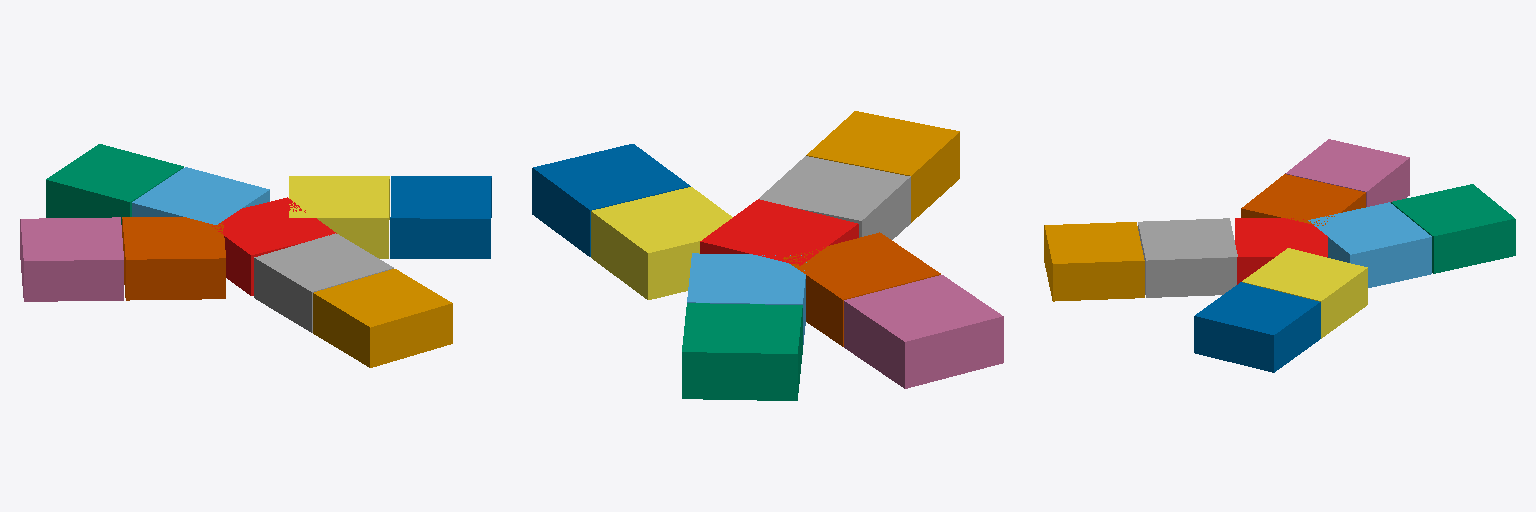
The robot description file, URDF, robot "Model_Models/Model_97.urdf2":
<?xml version='1.0' encoding='UTF-8'?>
<robot name="Model_Models/Model_97.urdf2">
  <link name="base_link">
    <inertial>
      <origin xyz="0.0 0.0 0.0" rpy="0.0 -0.0 0.0"/>
      <mass value="1.0"/>
      <inertia ixx="1.0" ixy="0.0" ixz="0.0" iyy="1.0" iyz="0.0" izz="1.0"/>
    </inertial>
    <visual>
      <geometry>
        <box size="0.67 0.67 0.3 "/>
      </geometry>
      <material name="red"/>
      <origin xyz="0.0 0.0 0.0" rpy="0.0 -0.0 0.0"/>
    </visual>
    <collision>
      <geometry>
        <box size="0.67 0.67 0.3 "/>
      </geometry>
      <origin xyz="0.0 0.0 0.0" rpy="0.0 0.0 0.0"/>
    </collision>
  </link>
  <link name="arm_0_arm1">
    <inertial>
      <origin xyz="0.0 0.34 0.0" rpy="0.0 0.0 0.0"/>
      <mass value="1.0"/>
      <inertia ixx="0.0" ixy="0.0" ixz="0.0" iyy="0.0" iyz="0.0" izz="0.0"/>
    </inertial>
    <visual>
      <geometry>
        <box size="0.67 0.67 0.3 "/>
      </geometry>
      <origin xyz="0.0 0.34 0.0" rpy="0.0 0.0 0.0"/>
    </visual>
    <collision>
      <geometry>
        <box size="0.67 0.67 0.3 "/>
      </geometry>
      <origin xyz="0.0 0.34 0.0" rpy="0.0 0.0 0.0"/>
    </collision>
  </link>
  <link name="arm_0_arm2">
    <inertial>
      <origin xyz="0.0 0.34 0.0" rpy="0.0 0.0 0.0"/>
      <mass value="1.0"/>
      <inertia ixx="0.0" ixy="0.0" ixz="0.0" iyy="0.0" iyz="0.0" izz="0.0"/>
    </inertial>
    <visual>
      <geometry>
        <box size="0.67 0.67 0.3 "/>
      </geometry>
      <origin xyz="0.0 0.34 0.0" rpy="0.0 0.0 0.0"/>
    </visual>
    <collision>
      <geometry>
        <box size="0.67 0.67 0.3 "/>
      </geometry>
      <origin xyz="0.0 0.34 0.0" rpy="0.0 0.0 0.0"/>
    </collision>
  </link>
  <link name="arm_2_arm1">
    <inertial>
      <origin xyz="0.0 0.34 0.0" rpy="0.0 0.0 0.0"/>
      <mass value="1.0"/>
      <inertia ixx="0.0" ixy="0.0" ixz="0.0" iyy="0.0" iyz="0.0" izz="0.0"/>
    </inertial>
    <visual>
      <geometry>
        <box size="0.67 0.67 0.3 "/>
      </geometry>
      <origin xyz="0.0 0.34 0.0" rpy="0.0 0.0 0.0"/>
    </visual>
    <collision>
      <geometry>
        <box size="0.67 0.67 0.3 "/>
      </geometry>
      <origin xyz="0.0 0.34 0.0" rpy="0.0 0.0 0.0"/>
    </collision>
  </link>
  <link name="arm_2_arm2">
    <inertial>
      <origin xyz="0.0 0.34 0.0" rpy="0.0 0.0 0.0"/>
      <mass value="1.0"/>
      <inertia ixx="0.0" ixy="0.0" ixz="0.0" iyy="0.0" iyz="0.0" izz="0.0"/>
    </inertial>
    <visual>
      <geometry>
        <box size="0.67 0.67 0.3 "/>
      </geometry>
      <origin xyz="0.0 0.34 0.0" rpy="0.0 0.0 0.0"/>
    </visual>
    <collision>
      <geometry>
        <box size="0.67 0.67 0.3 "/>
      </geometry>
      <origin xyz="0.0 0.34 0.0" rpy="0.0 0.0 0.0"/>
    </collision>
  </link>
  <link name="arm_3_arm1">
    <inertial>
      <origin xyz="0.0 0.34 0.0" rpy="0.0 0.0 0.0"/>
      <mass value="1.0"/>
      <inertia ixx="0.0" ixy="0.0" ixz="0.0" iyy="0.0" iyz="0.0" izz="0.0"/>
    </inertial>
    <visual>
      <geometry>
        <box size="0.67 0.67 0.3 "/>
      </geometry>
      <origin xyz="0.0 0.34 0.0" rpy="0.0 0.0 0.0"/>
    </visual>
    <collision>
      <geometry>
        <box size="0.67 0.67 0.3 "/>
      </geometry>
      <origin xyz="0.0 0.34 0.0" rpy="0.0 0.0 0.0"/>
    </collision>
  </link>
  <link name="arm_3_arm2">
    <inertial>
      <origin xyz="0.0 0.34 0.0" rpy="0.0 0.0 0.0"/>
      <mass value="1.0"/>
      <inertia ixx="0.0" ixy="0.0" ixz="0.0" iyy="0.0" iyz="0.0" izz="0.0"/>
    </inertial>
    <visual>
      <geometry>
        <box size="0.67 0.67 0.3 "/>
      </geometry>
      <origin xyz="0.0 0.34 0.0" rpy="0.0 0.0 0.0"/>
    </visual>
    <collision>
      <geometry>
        <box size="0.67 0.67 0.3 "/>
      </geometry>
      <origin xyz="0.0 0.34 0.0" rpy="0.0 0.0 0.0"/>
    </collision>
  </link>
  <link name="arm_Permutation_2_arm1">
    <inertial>
      <origin xyz="0.0 0.34 0.0" rpy="0.0 0.0 0.0"/>
      <mass value="1.0"/>
      <inertia ixx="0.0" ixy="0.0" ixz="0.0" iyy="0.0" iyz="0.0" izz="0.0"/>
    </inertial>
    <visual>
      <geometry>
        <box size="0.67 0.67 0.3 "/>
      </geometry>
      <origin xyz="0.0 0.34 0.0" rpy="0.0 0.0 0.0"/>
    </visual>
    <collision>
      <geometry>
        <box size="0.67 0.67 0.3 "/>
      </geometry>
      <origin xyz="0.0 0.34 0.0" rpy="0.0 0.0 0.0"/>
    </collision>
  </link>
  <link name="arm_Permutation_2_arm2">
    <inertial>
      <origin xyz="0.0 0.34 0.0" rpy="0.0 0.0 0.0"/>
      <mass value="1.0"/>
      <inertia ixx="0.0" ixy="0.0" ixz="0.0" iyy="0.0" iyz="0.0" izz="0.0"/>
    </inertial>
    <visual>
      <geometry>
        <box size="0.67 0.67 0.3 "/>
      </geometry>
      <origin xyz="0.0 0.34 0.0" rpy="0.0 0.0 0.0"/>
    </visual>
    <collision>
      <geometry>
        <box size="0.67 0.67 0.3 "/>
      </geometry>
      <origin xyz="0.0 0.34 0.0" rpy="0.0 0.0 0.0"/>
    </collision>
  </link>
  <joint name="arm_0_jointBase" type="fixed">
    <limit effort="1.57" velocity="1.57" lower="-1.57" upper="1.57"/>
    <parent link="base_link"/>
    <child link="arm_0_arm1"/>
    <axis xyz="1. 0. 0."/>
    <origin xyz="0.0 0.34 0.0" rpy="0.0 0.0 0.48"/>
  </joint>
  <joint name="arm_0_joint1" type="revolute">
    <limit effort="1.57" velocity="1.57" lower="-1.57" upper="1.57"/>
    <parent link="arm_0_arm1"/>
    <child link="arm_0_arm2"/>
    <axis xyz="1. 0. 0."/>
    <origin xyz="0.0 0.68 0.0" rpy="0.0 0.0 0.0"/>
  </joint>
  <joint name="arm_2_jointBase" type="fixed">
    <limit effort="1.57" velocity="1.57" lower="-1.57" upper="1.57"/>
    <parent link="base_link"/>
    <child link="arm_2_arm1"/>
    <axis xyz="1. 0. 0."/>
    <origin xyz="0.34 0.34 0.0" rpy="0.0 0.0 -2.1"/>
  </joint>
  <joint name="arm_2_joint1" type="revolute">
    <limit effort="1.57" velocity="1.57" lower="-1.57" upper="1.57"/>
    <parent link="arm_2_arm1"/>
    <child link="arm_2_arm2"/>
    <axis xyz="1. 0. 0."/>
    <origin xyz="0.0 0.68 0.0" rpy="0.0 0.0 0.0"/>
  </joint>
  <joint name="arm_3_jointBase" type="fixed">
    <limit effort="1.57" velocity="1.57" lower="-1.57" upper="1.57"/>
    <parent link="base_link"/>
    <child link="arm_3_arm1"/>
    <axis xyz="1. 0. 0."/>
    <origin xyz="-0.34 0.0 0.0" rpy="0.0 0.0 1.08"/>
  </joint>
  <joint name="arm_3_joint1" type="revolute">
    <limit effort="1.57" velocity="1.57" lower="-1.57" upper="1.57"/>
    <parent link="arm_3_arm1"/>
    <child link="arm_3_arm2"/>
    <axis xyz="1. 0. 0."/>
    <origin xyz="0.0 0.68 0.0" rpy="0.0 0.0 0.0"/>
  </joint>
  <joint name="arm_Permutation_2_jointBase" type="fixed">
    <limit effort="1.57" velocity="1.57" lower="-1.57" upper="1.57"/>
    <parent link="base_link"/>
    <child link="arm_Permutation_2_arm1"/>
    <axis xyz="1. 0. 0."/>
    <origin xyz="0.0 -0.34 0.0" rpy="0.0 0.0 -3.0531853071795867"/>
  </joint>
  <joint name="arm_Permutation_2_joint1" type="revolute">
    <limit effort="1.57" velocity="1.57" lower="-1.57" upper="1.57"/>
    <parent link="arm_Permutation_2_arm1"/>
    <child link="arm_Permutation_2_arm2"/>
    <axis xyz="1. 0. 0."/>
    <origin xyz="0.0 0.68 0.0" rpy="0.0 0.0 0.0"/>
  </joint>
  <material name="red">
    <color rgba="0.969 0.129 0.122 1.   "/>
  </material>
</robot>

--- What the picture shows (computed from the rendered views, not written in the file) ---
3 views of the same robot in one strip: view 1: azimuth 30°, elevation 25°; view 2: azimuth 150°, elevation 25°; view 3: azimuth 270°, elevation 25° (orthographic).
Model Model_Models/Model_97.urdf2 with 9 links and 8 joints (4 revolute, 4 fixed), rooted at base_link, posed every joint at zero.
Visible links, largest first — view 1: arm_Permutation_2_arm2, arm_3_arm2, arm_2_arm2, arm_3_arm1, arm_Permutation_2_arm1, arm_0_arm2, arm_2_arm1, base_link, arm_0_arm1; view 2: arm_3_arm2, arm_0_arm2, arm_2_arm1, arm_2_arm2, arm_Permutation_2_arm2, arm_Permutation_2_arm1, arm_3_arm1, base_link, arm_0_arm1; view 3: arm_2_arm2, arm_Permutation_2_arm2, arm_Permutation_2_arm1, arm_0_arm2, arm_0_arm1, arm_2_arm1, arm_3_arm2, arm_3_arm1, base_link.
Link boxes in pixels (x1,y1,x2,y2): arm_Permutation_2_arm2: (313,269,452,367); arm_3_arm2: (20,217,123,301); arm_2_arm2: (390,176,491,258); arm_3_arm1: (122,217,225,300); arm_Permutation_2_arm1: (254,233,393,332); arm_0_arm2: (46,144,183,224); arm_2_arm1: (289,176,389,258); base_link: (208,197,336,295); arm_0_arm1: (132,167,269,224); arm_3_arm2: (844,275,1003,388); arm_0_arm2: (682,303,802,400); arm_2_arm1: (591,187,732,299); arm_2_arm2: (532,144,690,256); arm_Permutation_2_arm2: (806,111,959,222); arm_Permutation_2_arm1: (759,156,910,239); arm_3_arm1: (783,232,940,346); base_link: (700,199,858,265); arm_0_arm1: (687,253,806,344); arm_2_arm2: (1194,282,1320,372); arm_Permutation_2_arm2: (1044,222,1144,301); arm_Permutation_2_arm1: (1138,218,1237,297); arm_0_arm2: (1391,184,1515,273); arm_0_arm1: (1308,202,1431,287); arm_2_arm1: (1242,248,1367,338); arm_3_arm2: (1285,139,1409,206); arm_3_arm1: (1241,174,1365,225); base_link: (1235,218,1327,284).
Bounding box of the posed robot: 3.37 × 3.42 × 0.3 m (x, y, z).
Geometry: primitives only (box / cylinder / sphere), no mesh files.